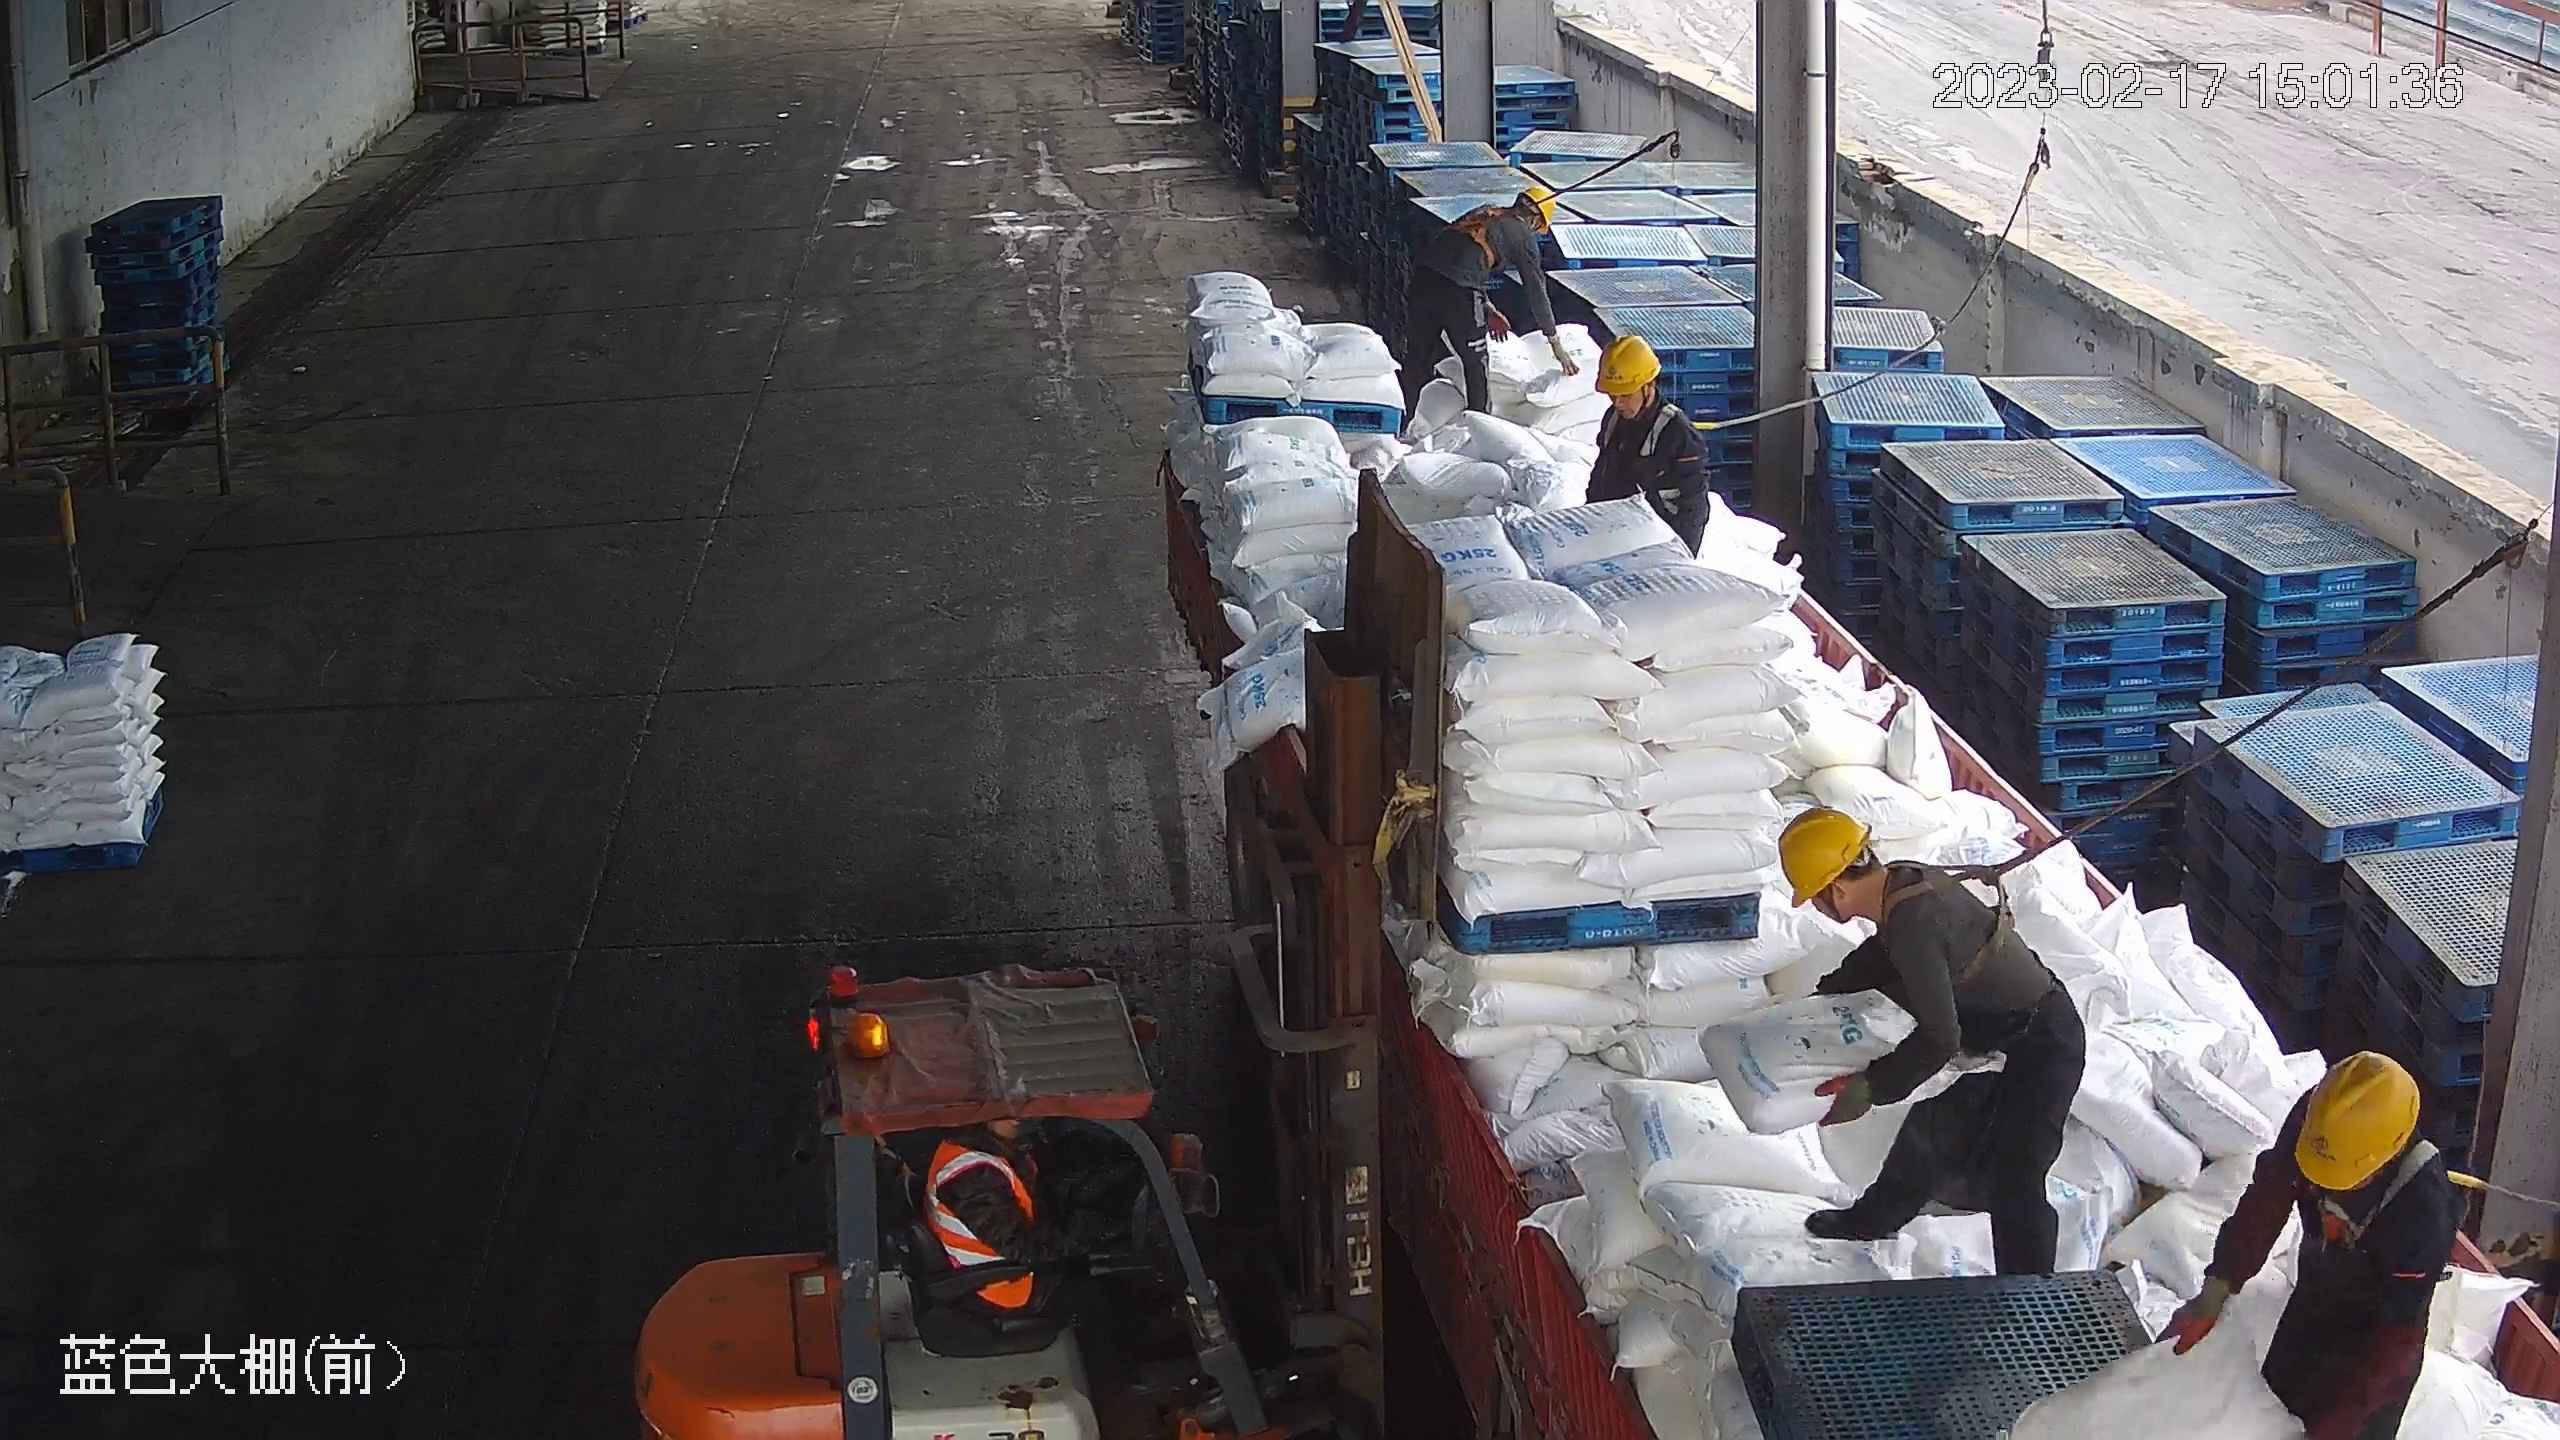belt: (2292, 1132, 2472, 1248), (1885, 853, 2034, 984), (1619, 398, 1716, 473), (1454, 200, 1519, 268)
head: (2255, 1050, 2468, 1241), (1780, 808, 1976, 968), (1591, 334, 1704, 467), (1458, 182, 1558, 268)
helmet: (2292, 1048, 2421, 1190), (1776, 804, 1873, 909), (1593, 334, 1661, 395), (1513, 182, 1556, 230)
people: (1778, 805, 2087, 1277), (2166, 1052, 2462, 1436), (916, 1123, 1179, 1394), (1390, 182, 1564, 426), (1586, 331, 1715, 566)
truck: (1156, 414, 2560, 1438)
